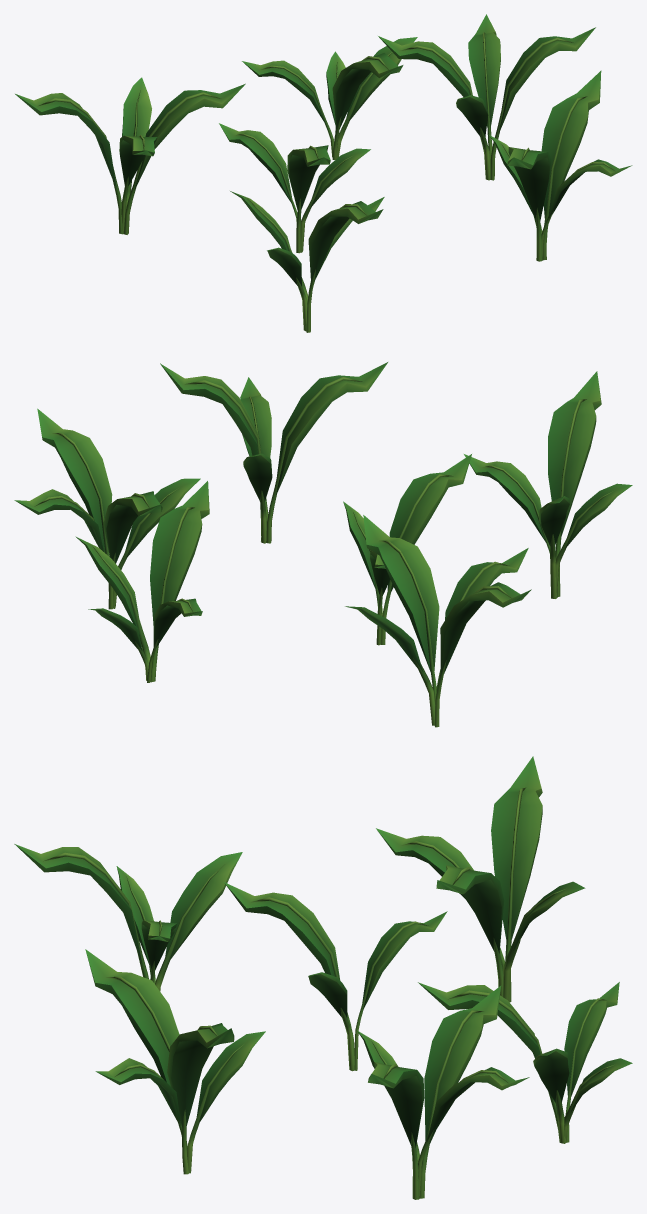
Rendered from SM_Plant_Turnip_Lv2.fbx.
3 views of the same model, one above another, from view 1: azimuth 30°, elevation 25°; view 2: azimuth 150°, elevation 25°; view 3: azimuth 270°, elevation 25° (orthographic). The views are drawn at different scales.
Visible parts, largest first — view 1: SM_Plant_Turnip_Lv2; view 2: SM_Plant_Turnip_Lv2; view 3: SM_Plant_Turnip_Lv2.
Part boxes in pixels (x1,y1,x2,y2): SM_Plant_Turnip_Lv2: (15,14,632,332); SM_Plant_Turnip_Lv2: (14,362,632,727); SM_Plant_Turnip_Lv2: (14,756,632,1199).
Bounding box in the file's own units: 86.04 × 25.36 × 73.83.
